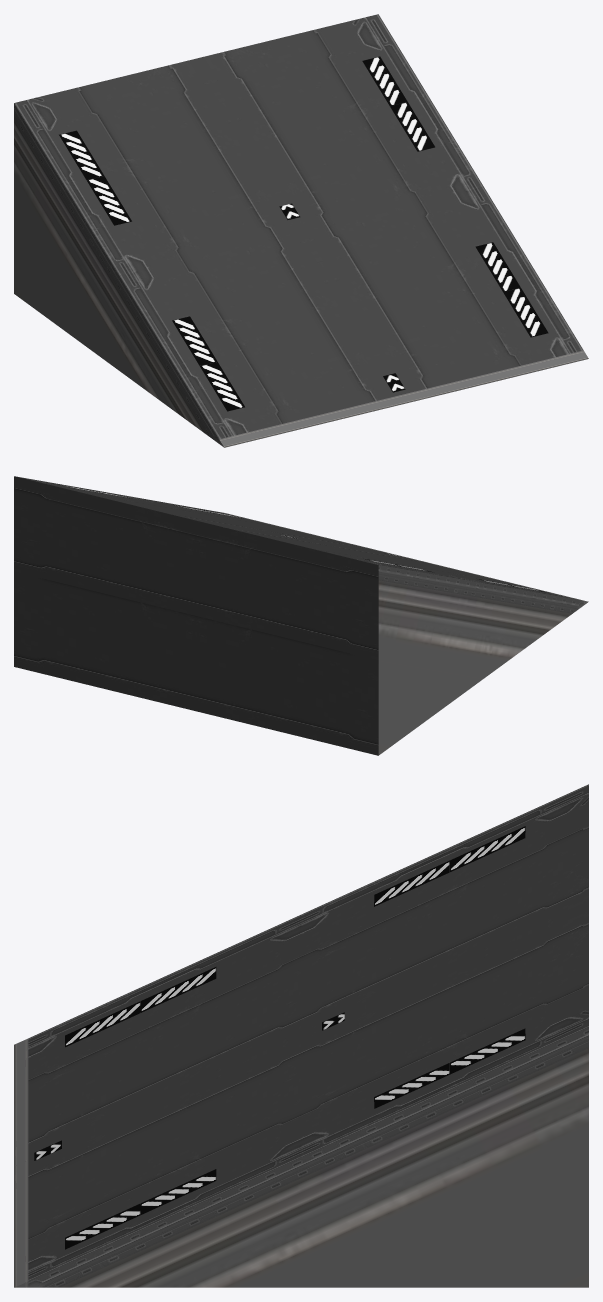
Rendered from platform_ramp_4wide.gltf.
3 renders of one model, top to bottom at view 1: azimuth 30°, elevation 25°; view 2: azimuth 150°, elevation 25°; view 3: azimuth 270°, elevation 25°, orthographic. The views are drawn at different scales.
Parts seen in each view (by area): view 1: Platform_Ramp_4Wide; view 2: Platform_Ramp_4Wide; view 3: Platform_Ramp_4Wide.
Part boxes in pixels (left/top/right/bottom): Platform_Ramp_4Wide: left=14, top=14, right=588, bottom=447; Platform_Ramp_4Wide: left=14, top=476, right=588, bottom=755; Platform_Ramp_4Wide: left=14, top=784, right=588, bottom=1287.
Size of the model in its own units: 4 by 2 by 4.
Materials: 3 (3 with a texture image).
